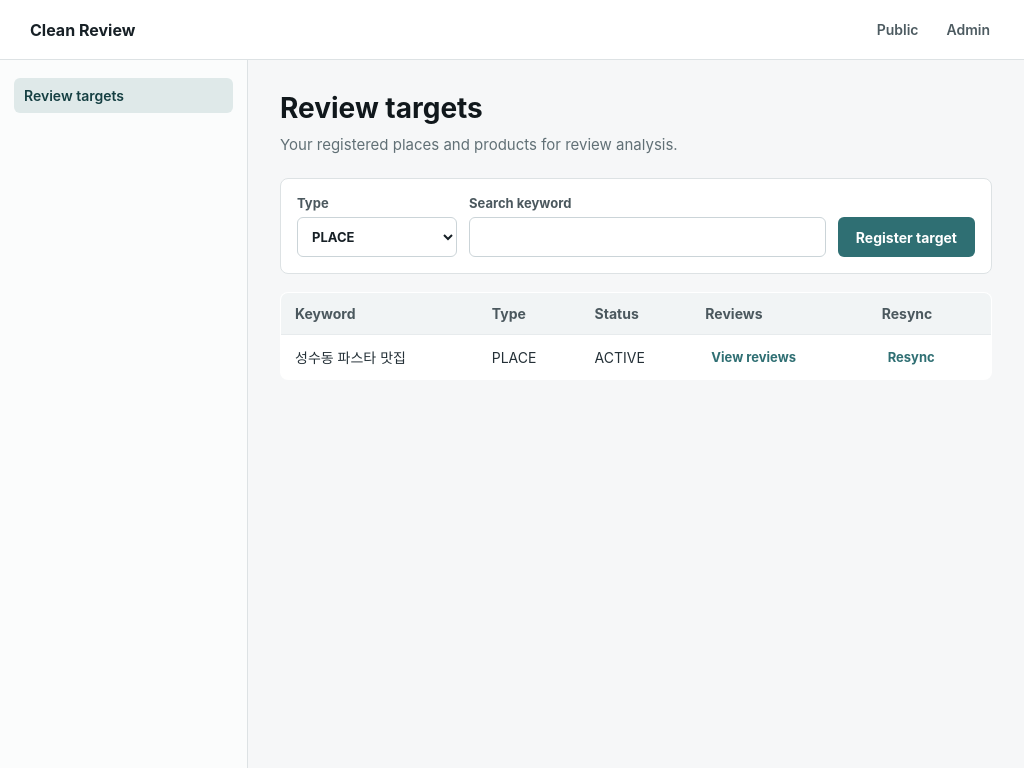
Test: App route shells › shows an error when manual resync fails
Click the button with aria-label "Resync 성수동 파스타 맛집". click: (911, 357)
box: [882,348,941,366]
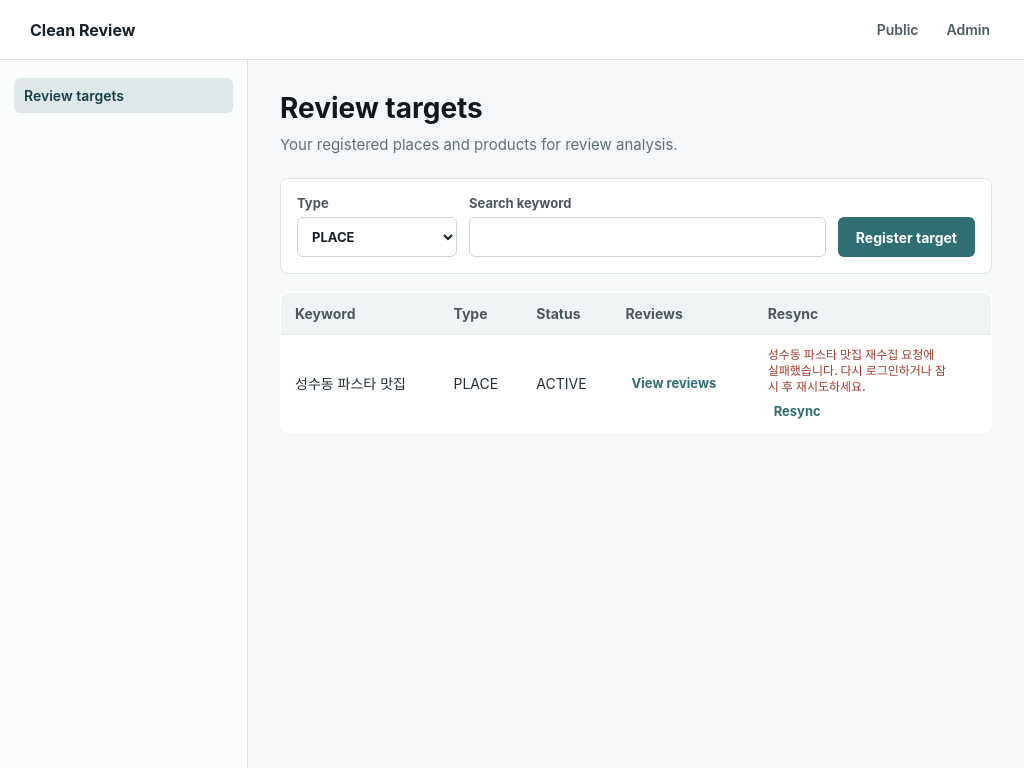
Check: the text "성수동 파스타 맛집 재수집 요청에 실패했습니다. 다시 로그인하거나 잠시 후 재시도하세요." is shown, box [768,347,948,396]
